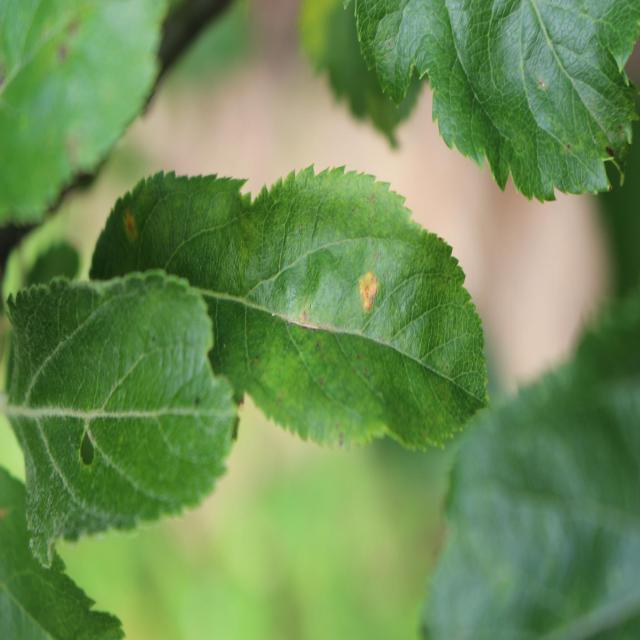Rust: (108, 207, 150, 260), (351, 263, 383, 327)
